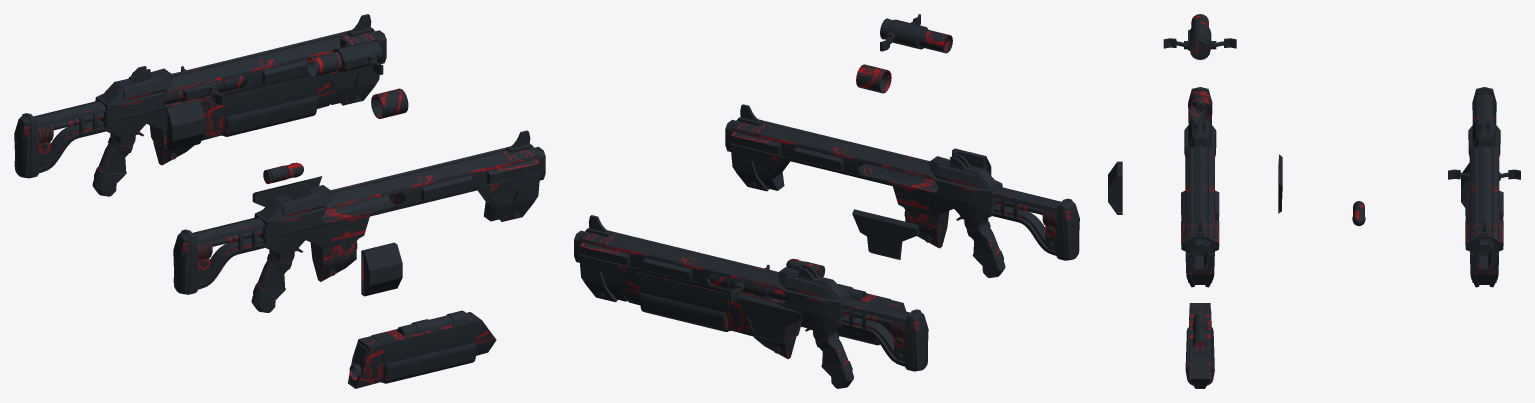
Rendered from SM_GrenadeLauncherExploded.fbx.
The picture shows the model from 3 angles, left to right: view 1: azimuth 30°, elevation 25°; view 2: azimuth 150°, elevation 25°; view 3: azimuth 270°, elevation 25°; orthographic projection. The views are drawn at different scales.
Parts seen in each view (by area): view 1: Base, Base.001, Mag, DetailNonMirror, Mag.001, DetailNonMirror.001, MagGrip, MagGrip.001, IronSights, IronSights.001, Cartridge; view 2: Base, Base.001, DetailNonMirror, Mag.001, DetailNonMirror.001, MagGrip.001, Mag, IronSights, IronSights.001, MagGrip; view 3: Base.001, Base, DetailNonMirror, Mag, Barrell, Barrell.001, MagGrip.
Boxes of the visible parts, x1,y1,x2,y2 form: Base: (173, 35, 540, 312); Base.001: (14, 29, 381, 196); Mag: (348, 242, 496, 388); DetailNonMirror: (252, 40, 408, 296); Mag.001: (202, 74, 337, 140); DetailNonMirror.001: (149, 75, 245, 151); MagGrip: (382, 342, 476, 383); MagGrip.001: (223, 95, 317, 136); IronSights: (287, 130, 532, 199); IronSights.001: (128, 14, 373, 83); Cartridge: (263, 162, 303, 183); Base: (730, 14, 1079, 277); Base.001: (579, 229, 928, 388); DetailNonMirror: (852, 18, 991, 259); Mag.001: (621, 271, 753, 336); DetailNonMirror.001: (708, 274, 802, 344); MagGrip.001: (639, 292, 728, 331); Mag: (837, 210, 906, 337); IronSights: (738, 104, 970, 170); IronSights.001: (586, 215, 819, 280); MagGrip: (801, 320, 879, 345); Base.001: (1448, 87, 1520, 287); Base: (1163, 38, 1236, 287); DetailNonMirror: (1108, 14, 1282, 214); Mag: (1189, 303, 1211, 388); Barrell: (1190, 239, 1210, 270); Barrell.001: (1474, 239, 1494, 270); MagGrip: (1185, 327, 1214, 385).
Size of the model in its own units: 62.98 by 69.01 by 56.5.
